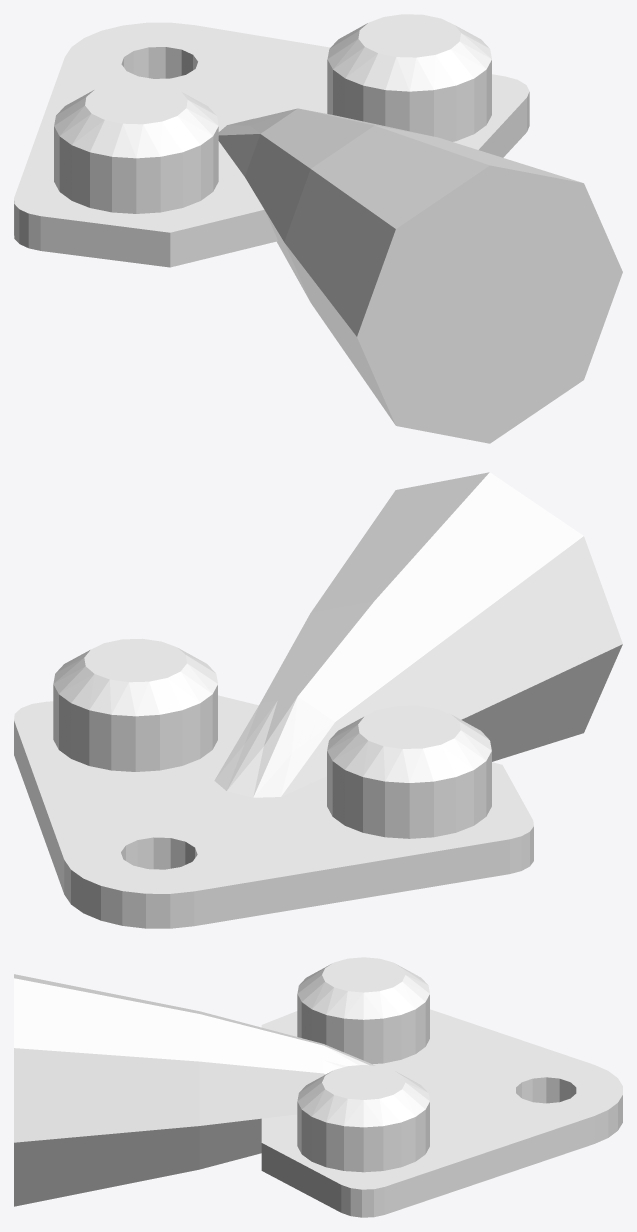
Rendered from ManeurEngine_color.fbx.
The picture shows the model from 3 angles, top to bottom: view 1: azimuth 30°, elevation 25°; view 2: azimuth 150°, elevation 25°; view 3: azimuth 270°, elevation 25°; orthographic projection. The views are drawn at different scales.
Parts seen in each view (by area): view 1: ManeurEngine; view 2: ManeurEngine; view 3: ManeurEngine.
Boxes of the visible parts, x1,y1,x2,y2 form: ManeurEngine: [14, 14, 622, 443]; ManeurEngine: [14, 472, 622, 928]; ManeurEngine: [14, 957, 622, 1217].
Bounding box in the file's own units: 1908 × 1000 × 2460.
